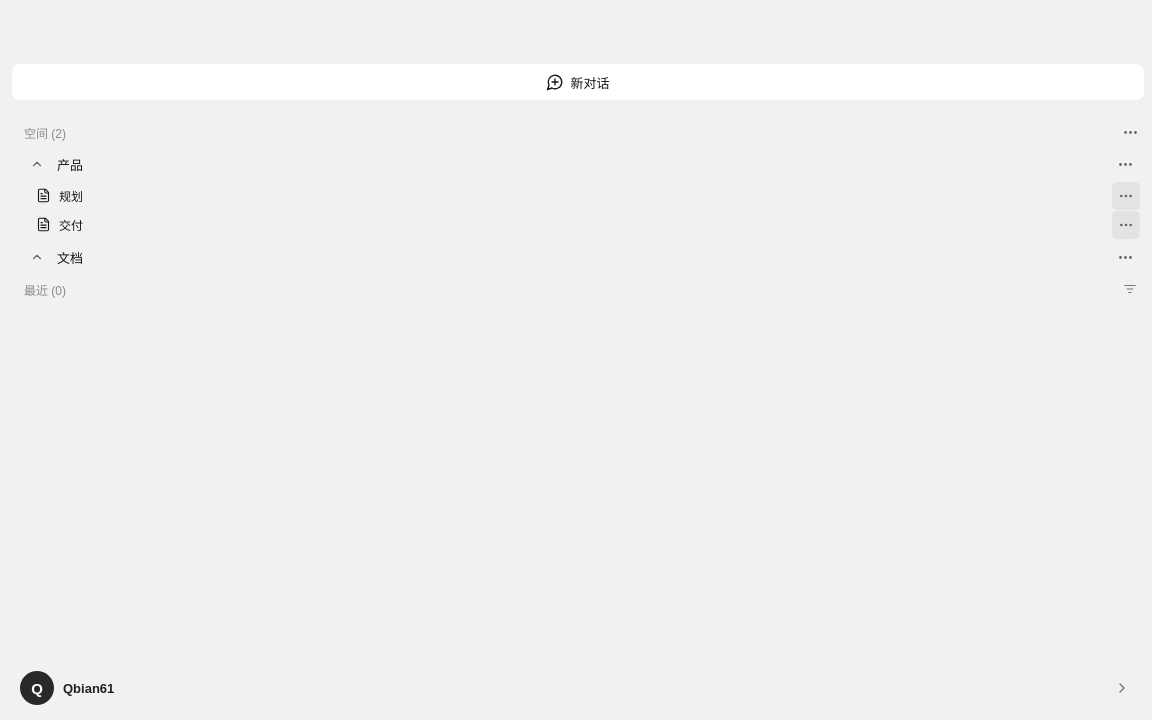
Test case: WorkspaceSidebar drag handles › places the requirements toggle before the space name
Click the button named "折叠 产品需求": (37, 164) [26,150,48,178]
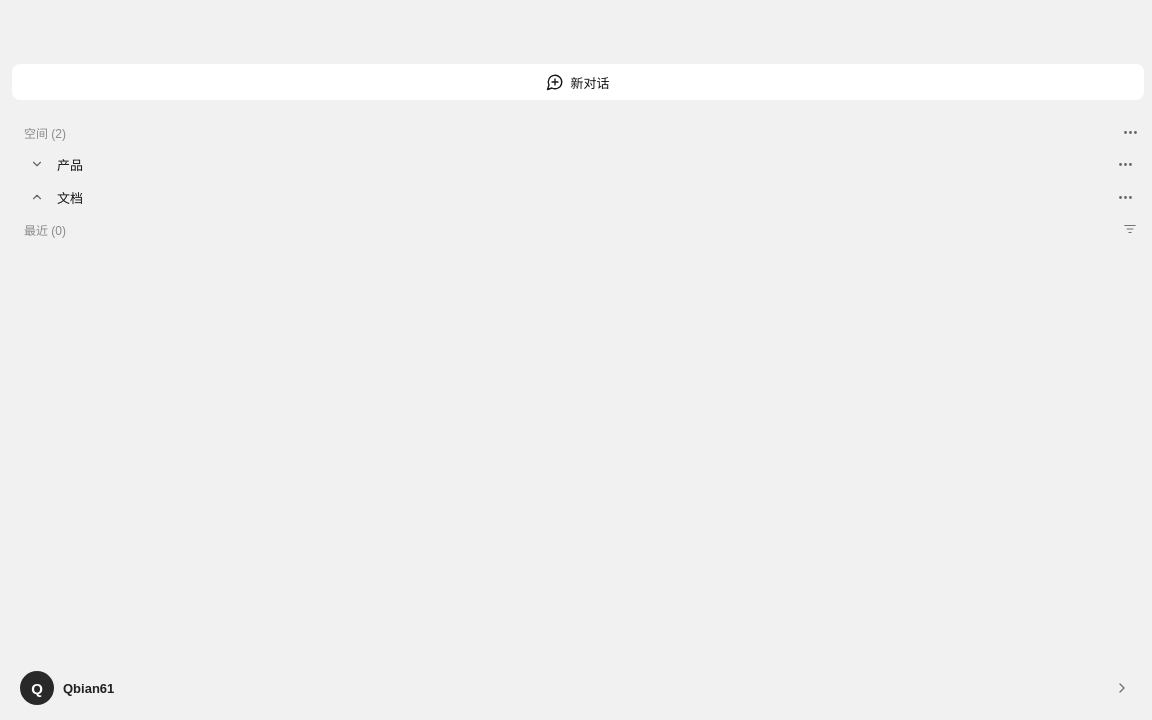
Check: the button named "折叠 产品需求" is collapsed, box [26,150,48,178]
Check: the link "规划" is gone
